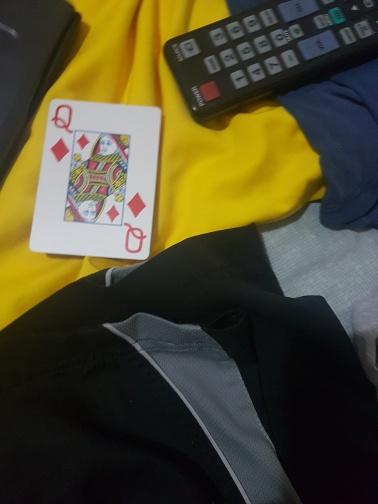queen: (30, 98, 162, 265)
